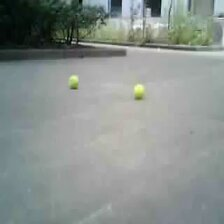tennis: (133, 84, 144, 99), (68, 74, 78, 89)
